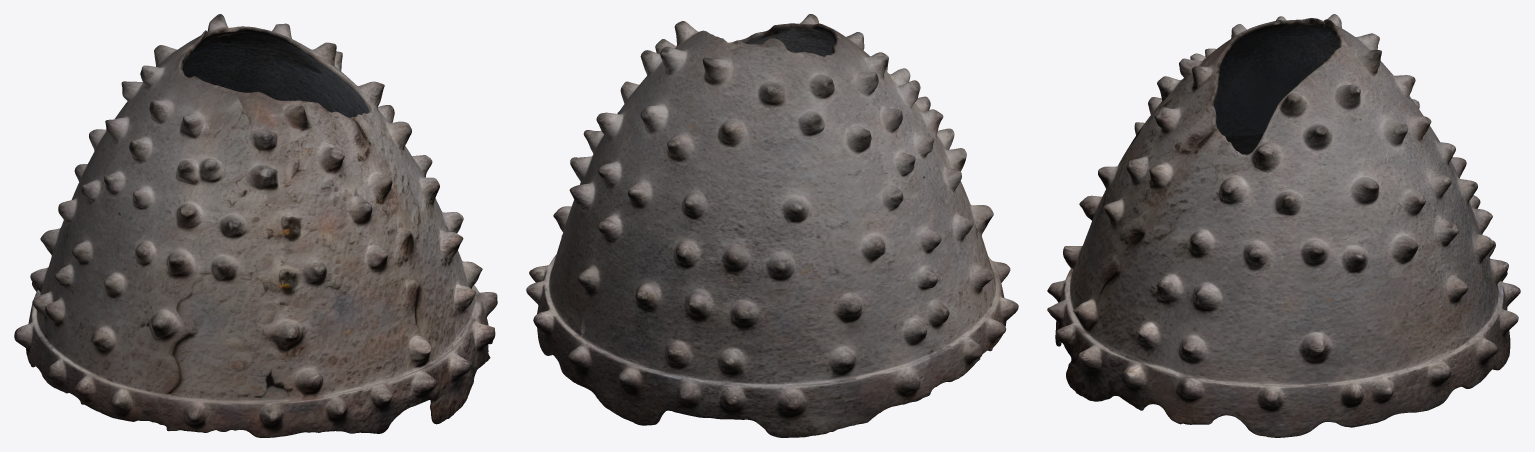
The model's file is 059-shipastaya-arheologicheskaya-nakladka.glb.
3 renders of one model, left to right at view 1: azimuth 30°, elevation 25°; view 2: azimuth 150°, elevation 25°; view 3: azimuth 270°, elevation 25°, orthographic. The views are drawn at different scales.
Parts seen in each view (by area): view 1: node_0; view 2: node_0; view 3: node_0.
Part boxes in pixels (<box>): node_0: <box>14,14,497,437</box>; node_0: <box>526,14,1018,437</box>; node_0: <box>1047,14,1520,437</box>.
Bounding box in the file's own units: 0.9854 × 0.7298 × 0.9851.
1 material, 1 textured.
